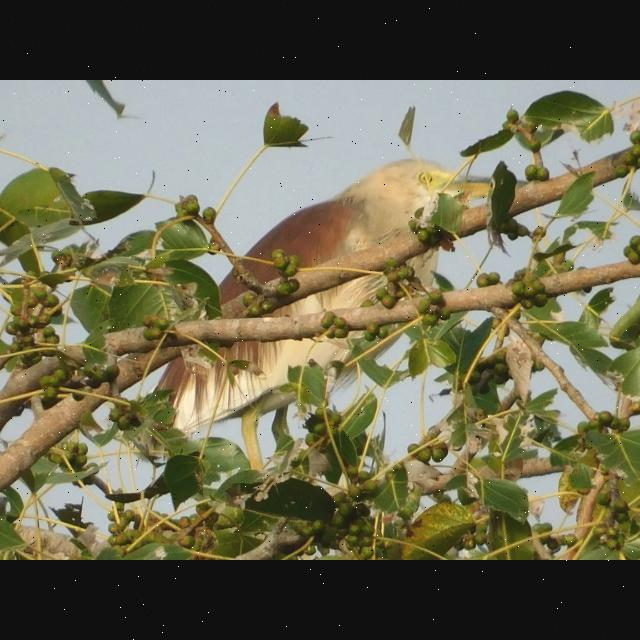heron: (153, 158, 525, 446)
